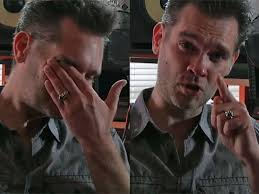white_male: (167, 16, 233, 109)
